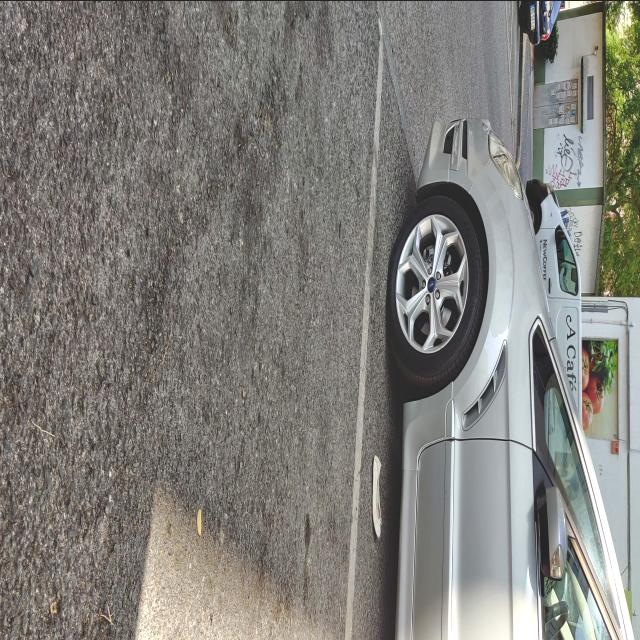Shoe: (372, 454, 381, 538)
